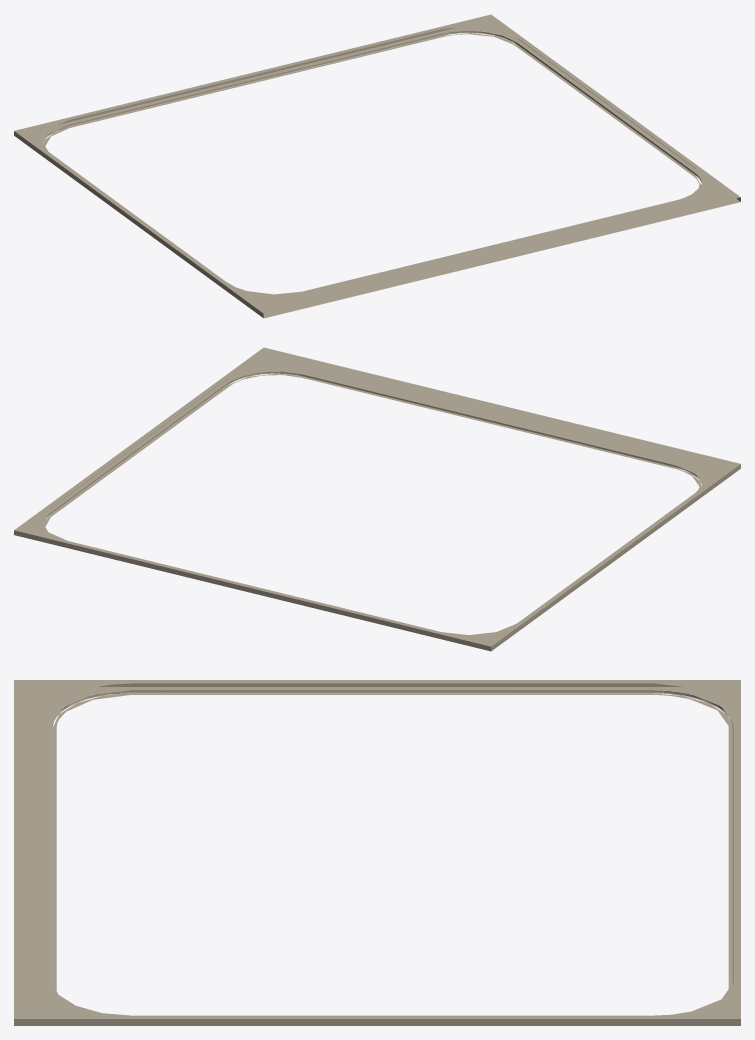
The model's file is original-33.obj.
3 views of the same model, one above another, from view 1: azimuth 30°, elevation 25°; view 2: azimuth 150°, elevation 25°; view 3: azimuth 270°, elevation 25° (orthographic). The views are drawn at different scales.
Visible parts, largest first — view 1: mesh32/mesh32-geometry#mesh32-geometry; view 2: mesh32/mesh32-geometry#mesh32-geometry; view 3: mesh32/mesh32-geometry#mesh32-geometry.
Boxes of the visible parts, x1=… form: mesh32/mesh32-geometry#mesh32-geometry: x1=14, y1=14, x2=740, y2=318; mesh32/mesh32-geometry#mesh32-geometry: x1=14, y1=347, x2=740, y2=651; mesh32/mesh32-geometry#mesh32-geometry: x1=14, y1=680, x2=740, y2=1025.
Size of the model in its own units: 0.9541 by 0.0128 by 0.865.
